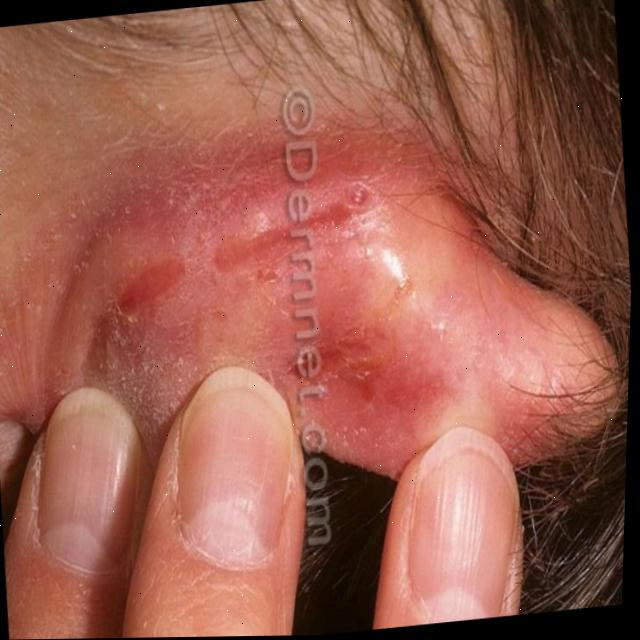Eczema: (125, 149, 436, 396)
